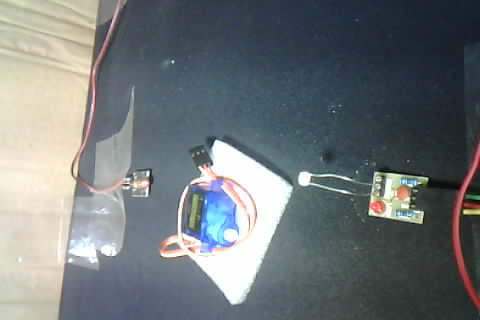motor: (157, 138, 285, 291)
